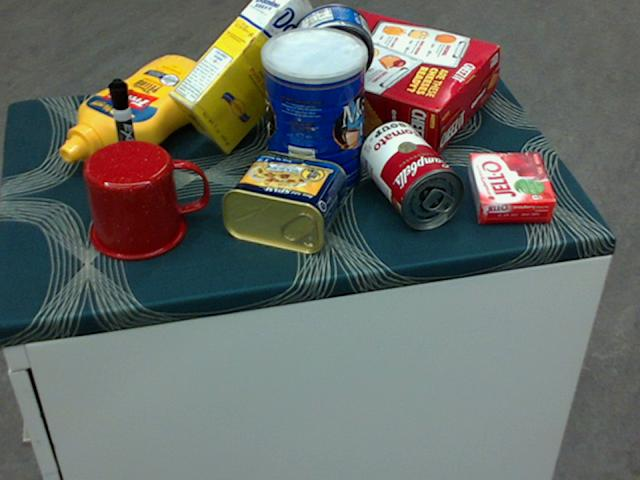cracker_box: (267, 4, 496, 158)
gelatin_box: (465, 153, 555, 222)
large_marker: (106, 79, 143, 188)
master_chef_can: (260, 27, 366, 198)
mug: (84, 139, 208, 260)
mustard_bottle: (58, 55, 218, 163)
potted_meat_can: (220, 151, 345, 253)
sugar_box: (166, 0, 328, 156)
tomato_soup_can: (360, 120, 463, 229)
tuna_fish_can: (290, 2, 373, 87)
